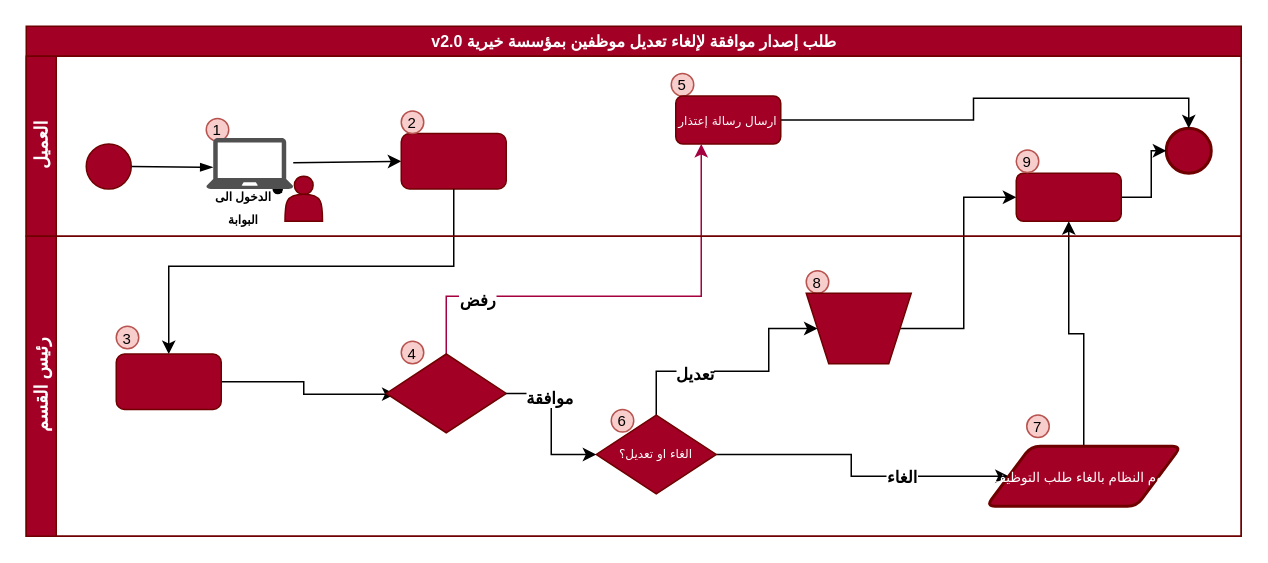
The diagram is 1268 pixels wide and 563 high, and some of its shapes have lost their labels. The shapes that lost their labels are listed below. From the top down, each one's box as (x1, y1, x2, y2) in pixels, then its label:
(85, 142, 131, 189): بداية
(400, 132, 506, 189): تعبئة وتقديم نموذج الطلب
(1164, 126, 1212, 174): اغلاق
(1015, 172, 1121, 221): ارسال رسالة باتمام العملية
(805, 292, 911, 364): يقوم رئيس القسم بتعديل المطلوب
(115, 352, 221, 410): مراجعة الطلب
(385, 352, 506, 433): موافقة؟
